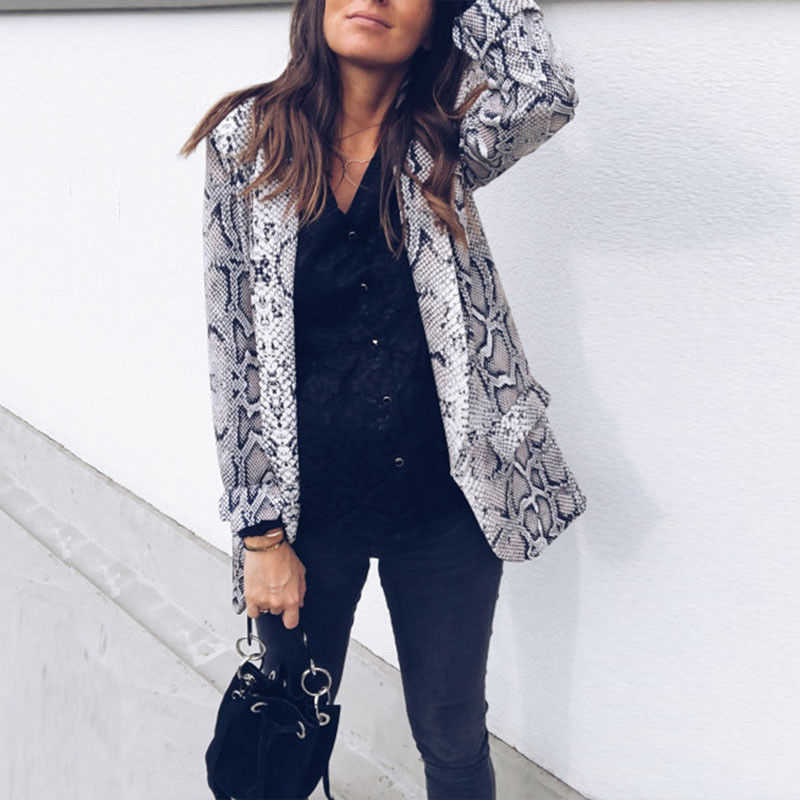F_W_suit jacket: (170, 22, 631, 570)
